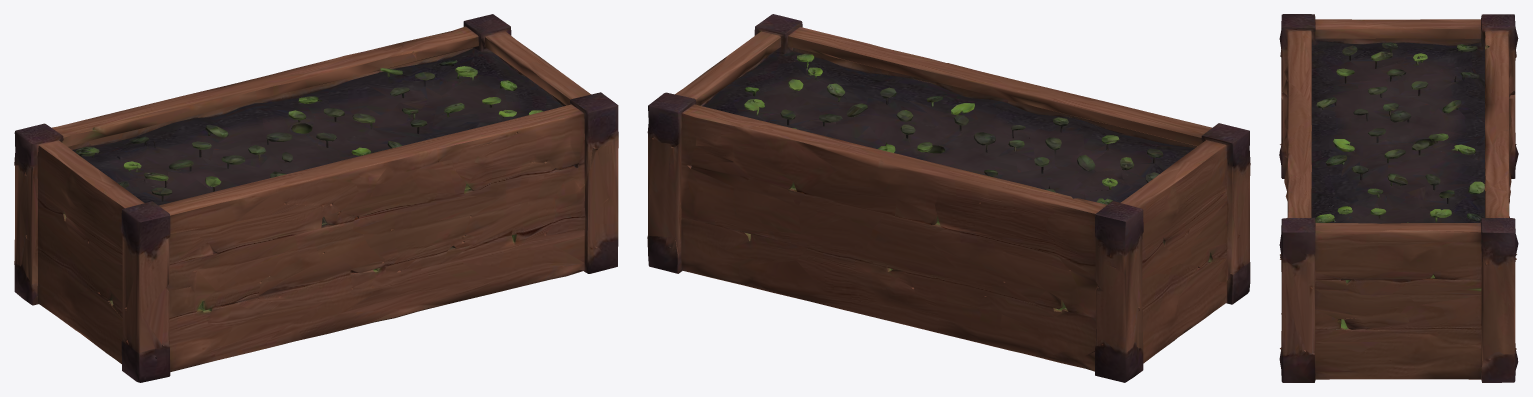
Rendered from planter_box_derevyannyy_yaschik_idle.glb.
3 views of the same model, side by side, from view 1: azimuth 30°, elevation 25°; view 2: azimuth 150°, elevation 25°; view 3: azimuth 270°, elevation 25° (orthographic). The views are drawn at different scales.
Visible parts, largest first — view 1: tripo_node_9454b68d-c5d0-45b0-9022-14b19302d63a; view 2: tripo_node_9454b68d-c5d0-45b0-9022-14b19302d63a; view 3: tripo_node_9454b68d-c5d0-45b0-9022-14b19302d63a.
Boxes of the visible parts, x1,y1,x2,y2 form: tripo_node_9454b68d-c5d0-45b0-9022-14b19302d63a: [14, 14, 618, 382]; tripo_node_9454b68d-c5d0-45b0-9022-14b19302d63a: [647, 14, 1250, 382]; tripo_node_9454b68d-c5d0-45b0-9022-14b19302d63a: [1279, 14, 1518, 382].
Size of the model in its own units: 1.2 by 0.3847 by 0.5499.
Materials: 1 (1 with a texture image).
